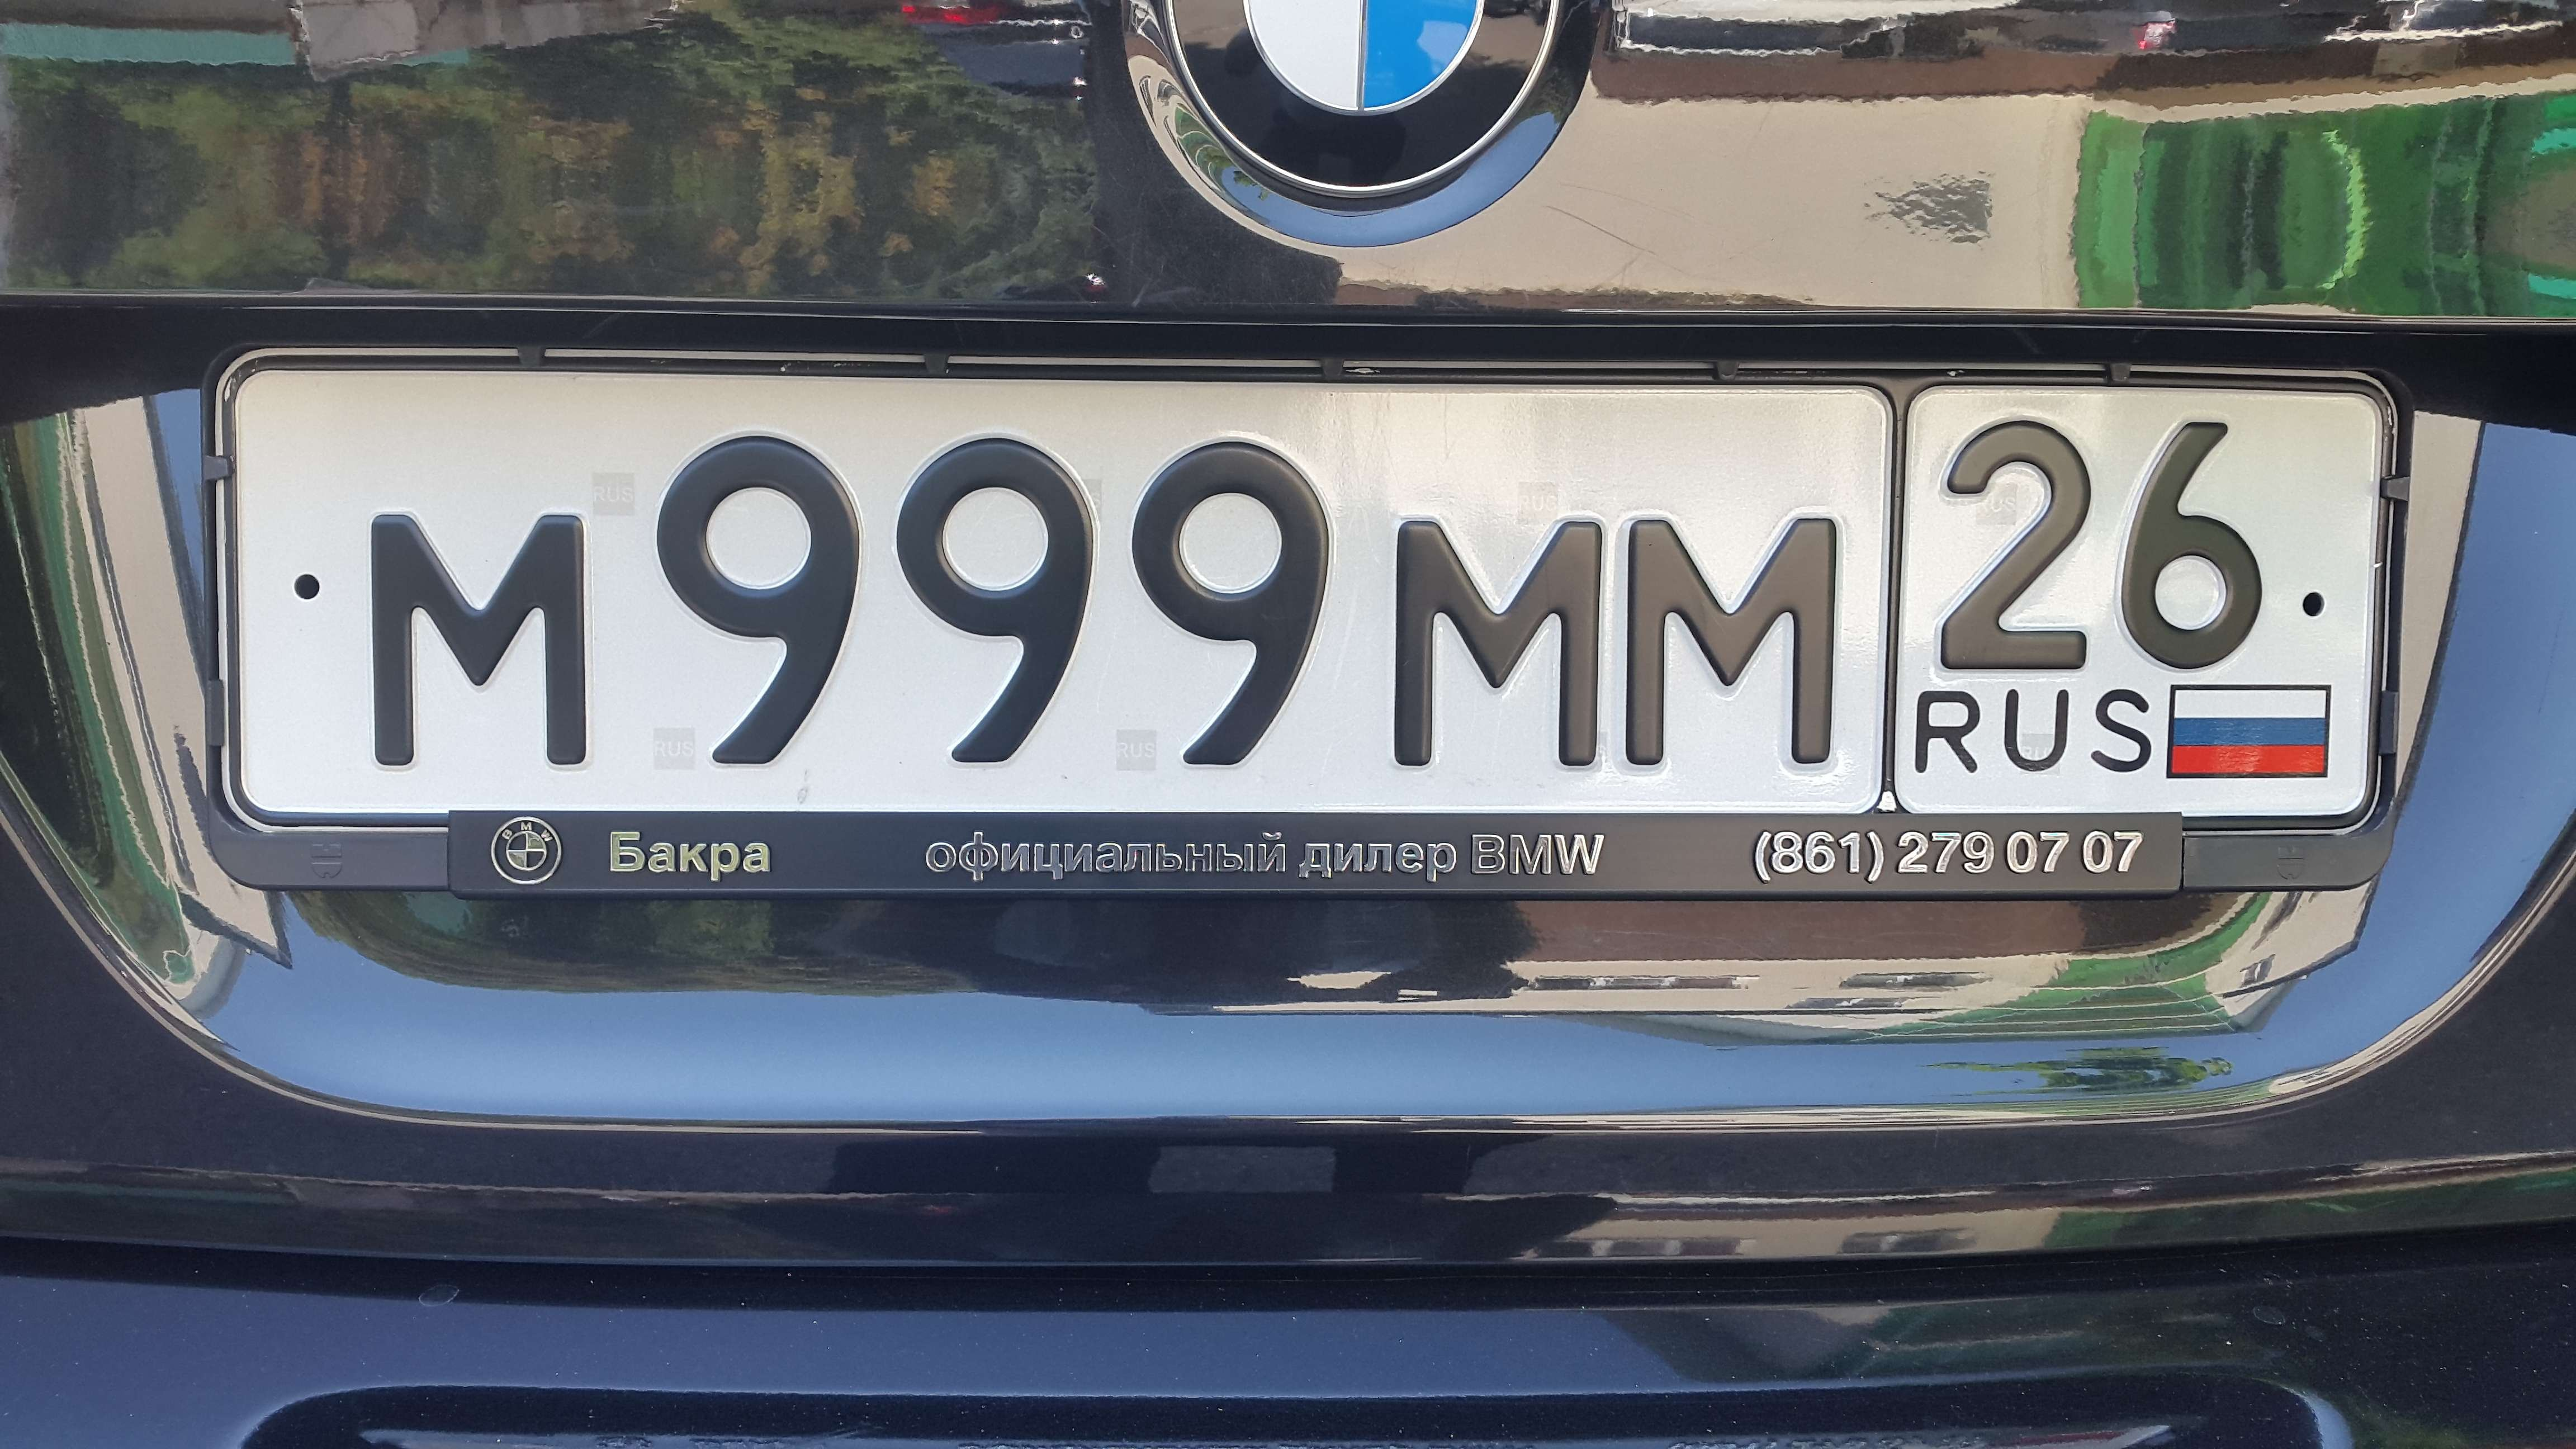number_plate: (217, 372, 2362, 821)
